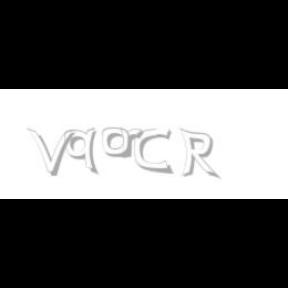C: (134, 128, 172, 174)
R: (179, 128, 217, 180)
V: (27, 128, 75, 176)
o: (102, 128, 130, 158)
q: (64, 128, 100, 176)
r: (120, 128, 146, 158)
